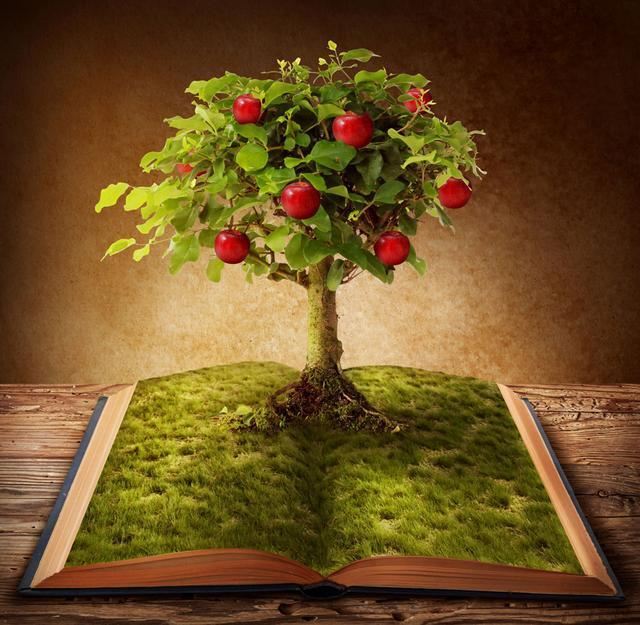apple: (277, 179, 320, 219), (331, 111, 374, 148), (231, 94, 261, 124)
